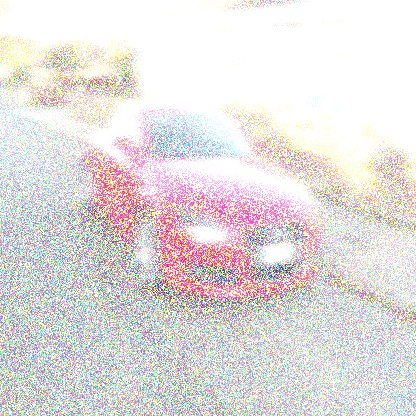Vehicle: (76, 105, 326, 295)
